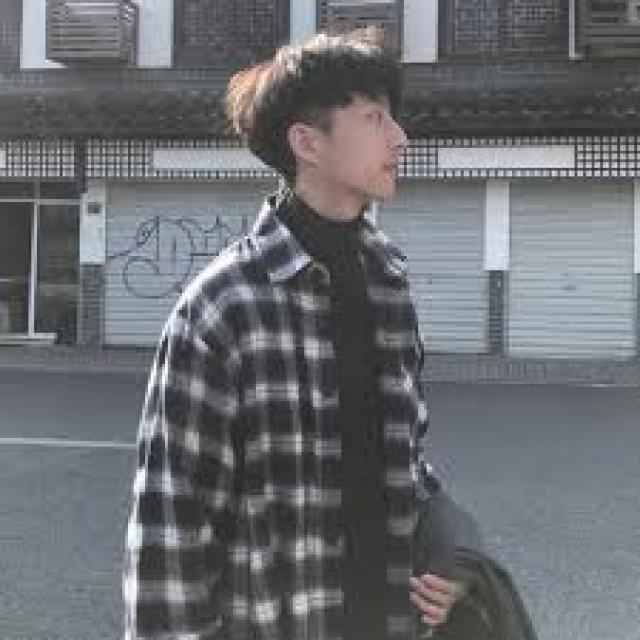plaid: (128, 206, 438, 635)
